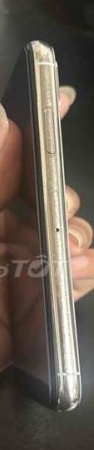scratch: (27, 49, 81, 409)
